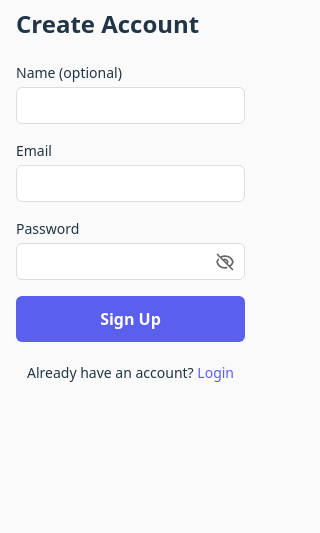
it: Signup Page › shows loading state during signup
Check: the button "Sign Up" is shown, box [16,296,245,342]
Type "test@test.com" into the field labelled "Email".
click(130, 184); type("test@test.com")  # box [16,165,245,202]
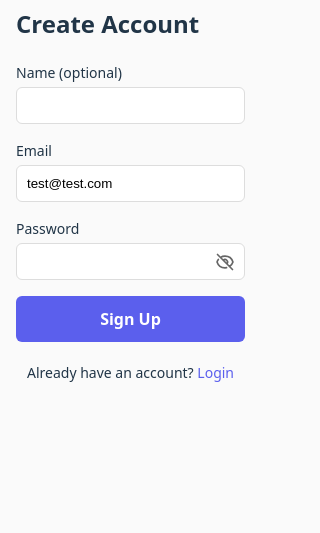
Type "TestPass123" into the password field labelled "Password".
click(130, 262); type("TestPass123")  # box [16,243,245,280]
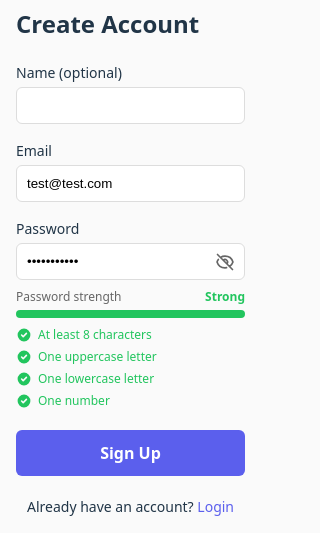
Click the button "Sign Up".
click(130, 453)  # box [16,430,245,476]
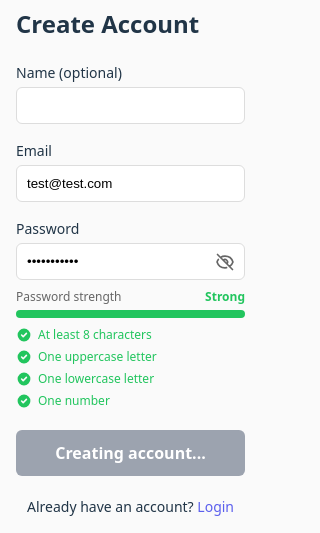
Check: the button named "sign up" reads "Creating account...", box [16,430,245,476]
Check: the button named "sign up" is disabled, box [16,430,245,476]
